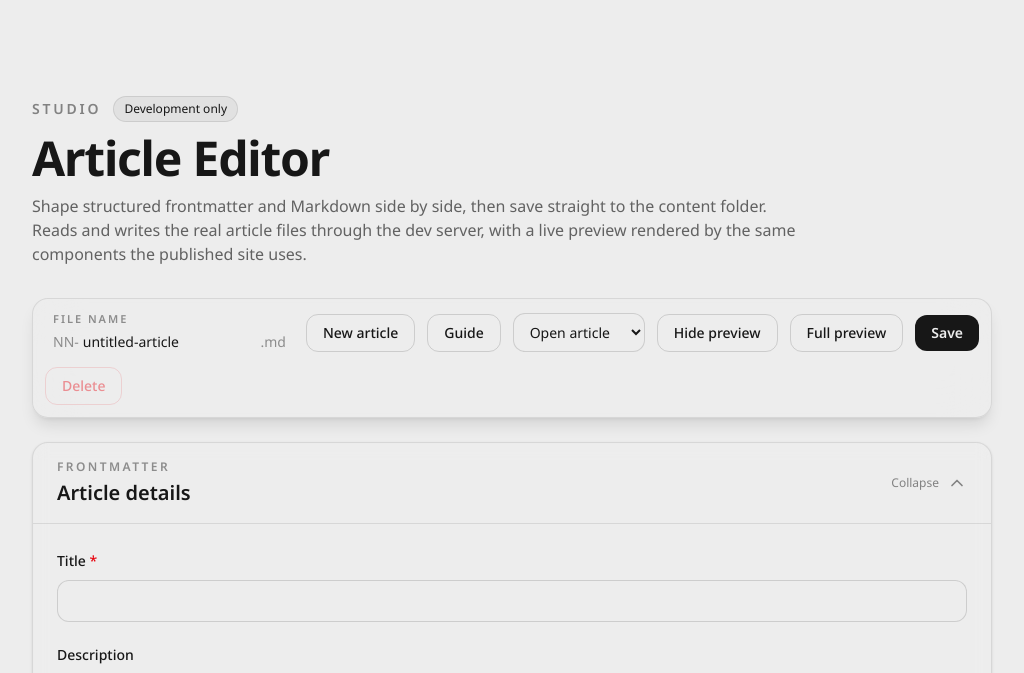
Test: ArticleEditor › saves the draft with its slug and clears the unsaved marker
The width and height of the screenshot is (1024, 673).
Type "New post" into the field labelled "Title *" at (512, 600), box left=57, top=580, right=967, bottom=622
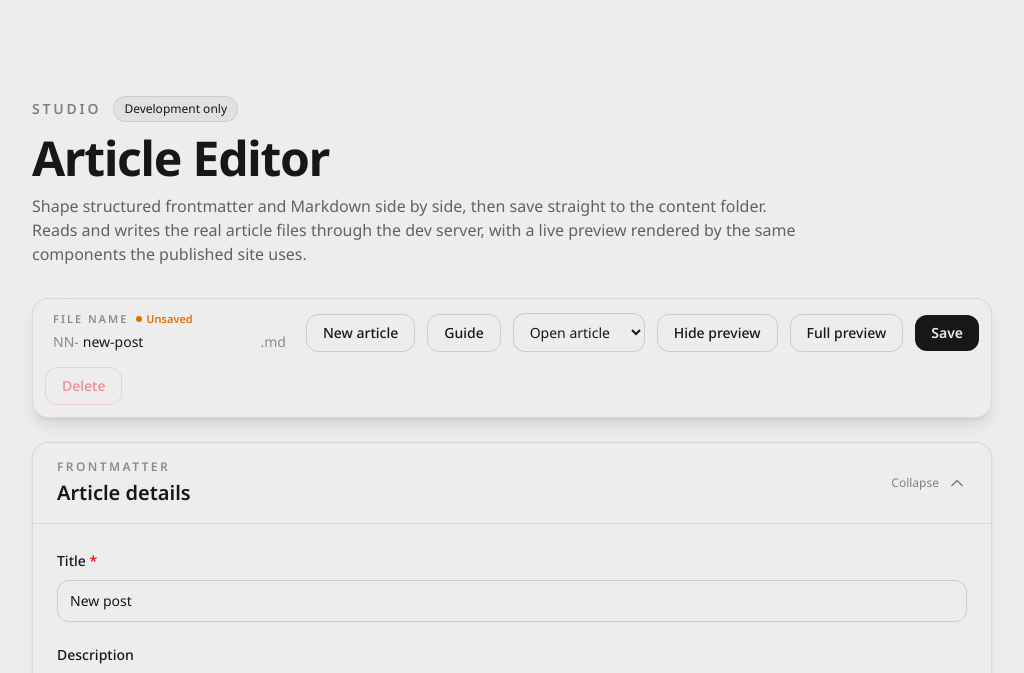
Click the button "Save" at (947, 333), box left=915, top=315, right=979, bottom=351
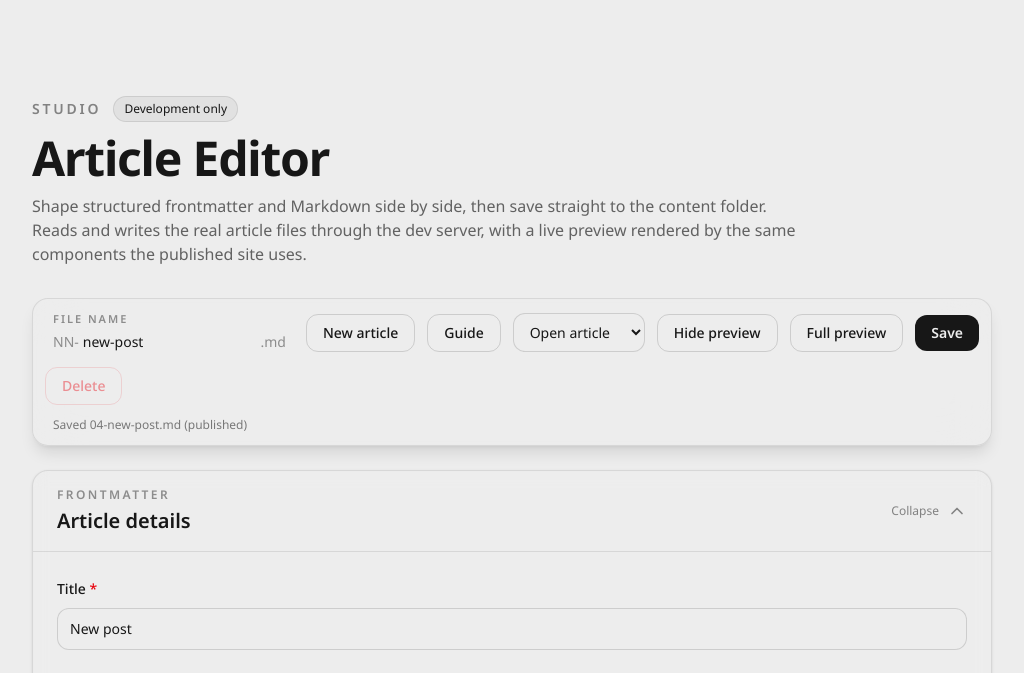
Result: the message reads "Saved 04-new-post.md (published)" at left=53, top=416, right=247, bottom=432
Result: the text "Unsaved" is gone
